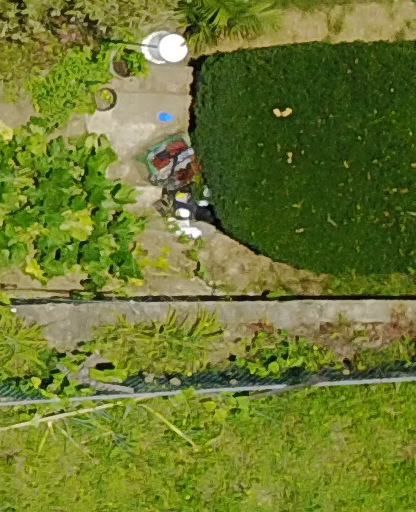container: (137, 22, 199, 77), (155, 109, 179, 128)
flower pot: (99, 36, 168, 86), (88, 84, 120, 126)
